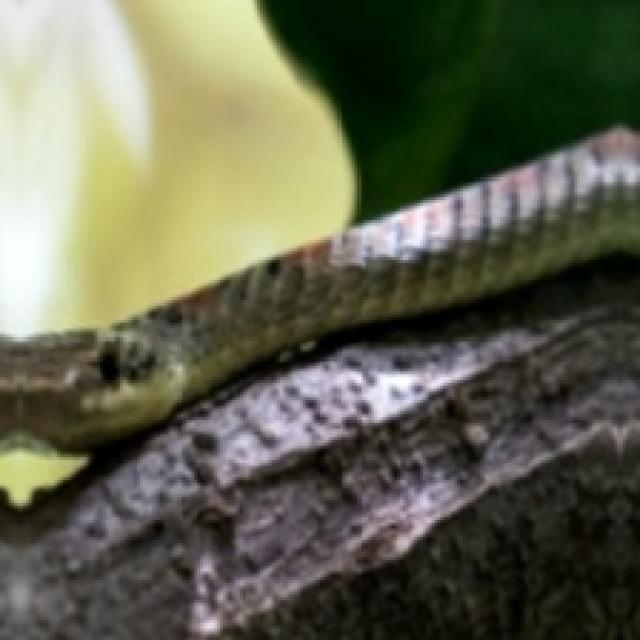paradise tree snake: (0, 129, 637, 451)
